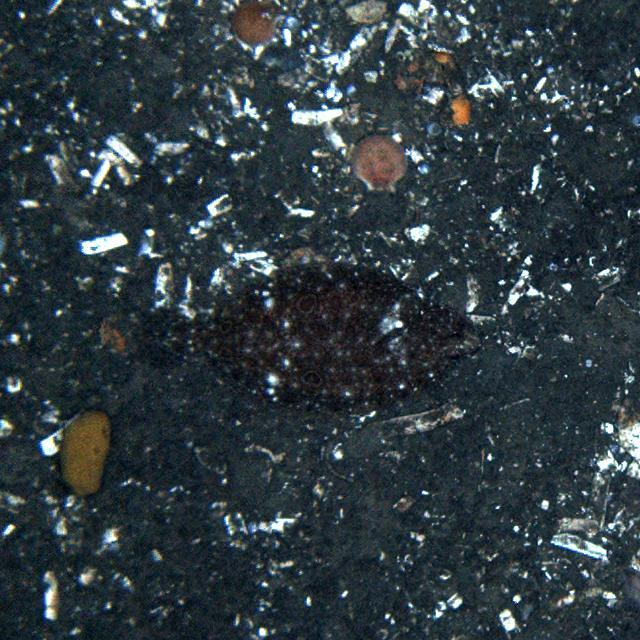flatfish: (192, 262, 476, 412)
